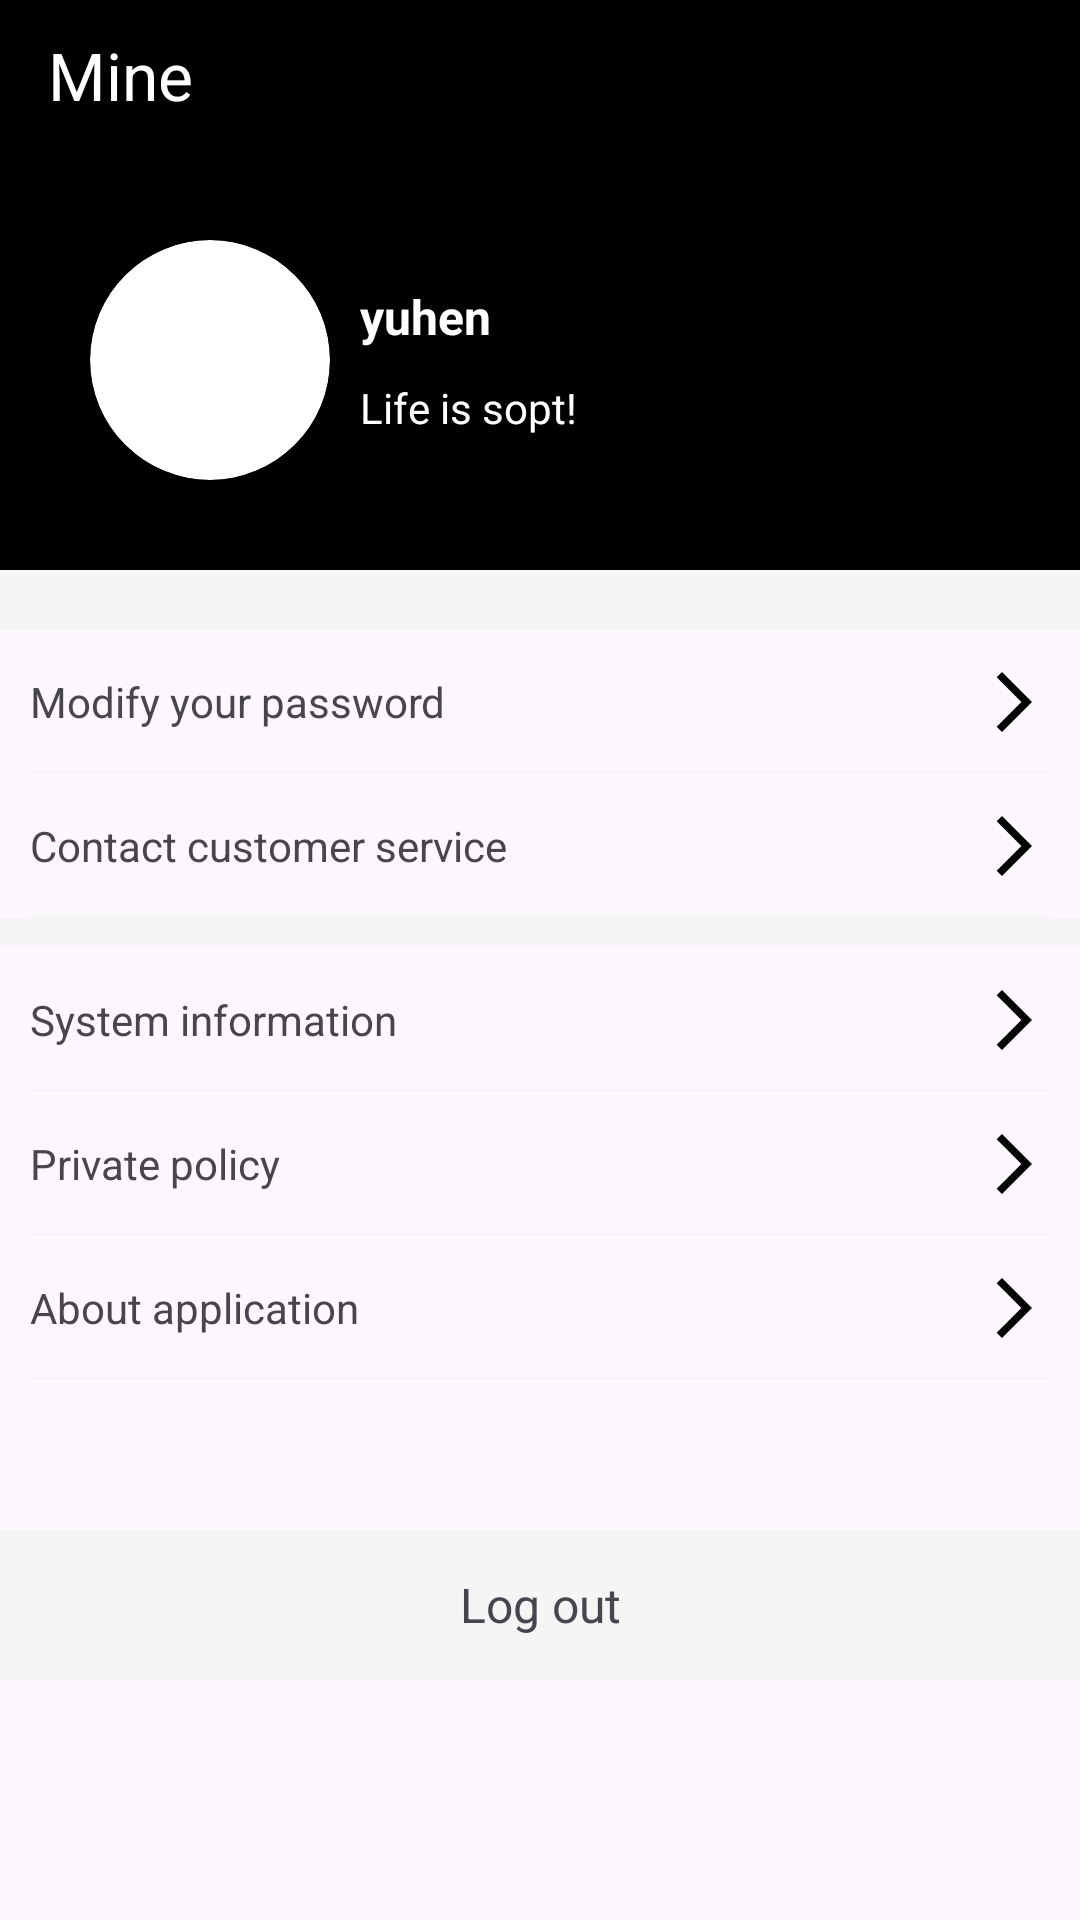

Named icons in this screenshot (1080x1920) and their centers, (x,y):
arrow forward: (1014,702), (1014,846), (1014,1020), (1014,1164), (1014,1308)
